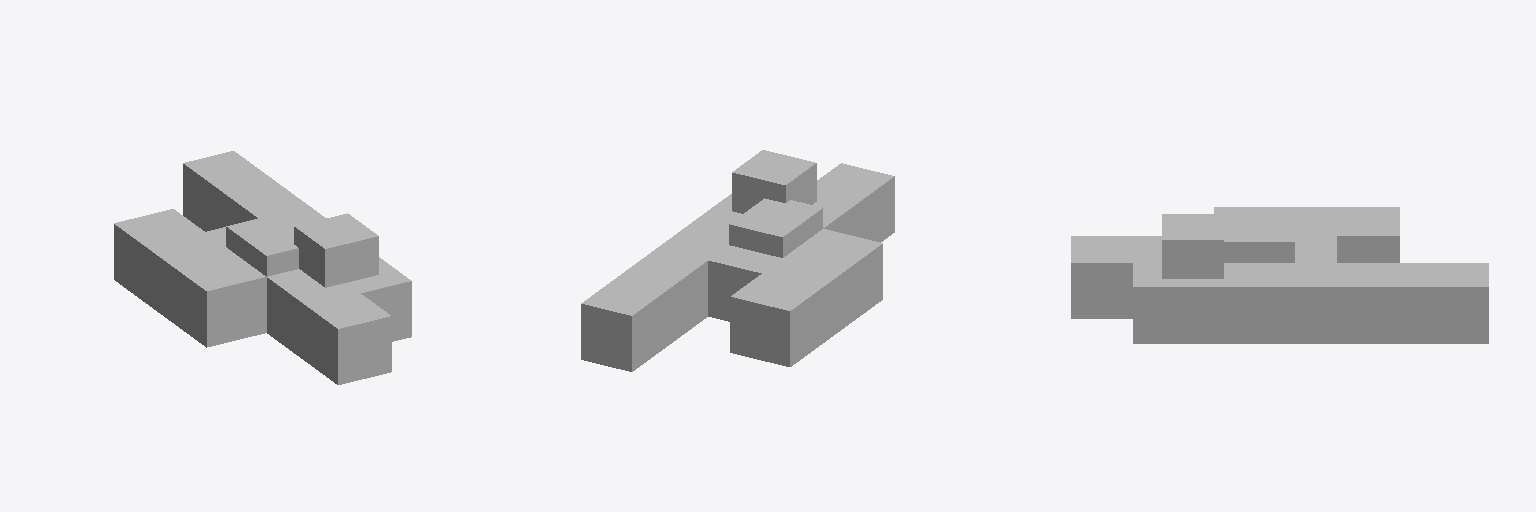
The model's file is test_topo2.obj.
The picture shows the model from 3 angles: view 1: azimuth 30°, elevation 25°; view 2: azimuth 150°, elevation 25°; view 3: azimuth 270°, elevation 25°; orthographic projection.
Parts seen in each view (by area): view 1: Cube; view 2: Cube; view 3: Cube.
Part boxes in pixels (bbox=[...]): Cube: bbox=[114, 151, 411, 384]; Cube: bbox=[581, 150, 894, 371]; Cube: bbox=[1071, 207, 1488, 343].
Bounding box in the file's own units: 6.13 × 3.38 × 13.47.